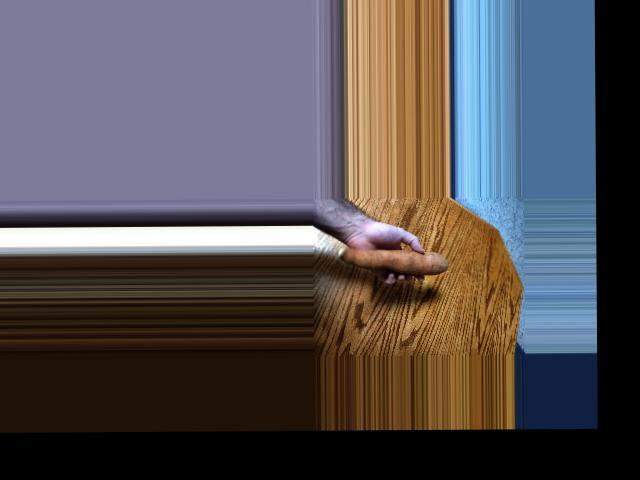sweet_potato: (342, 249, 452, 283)
